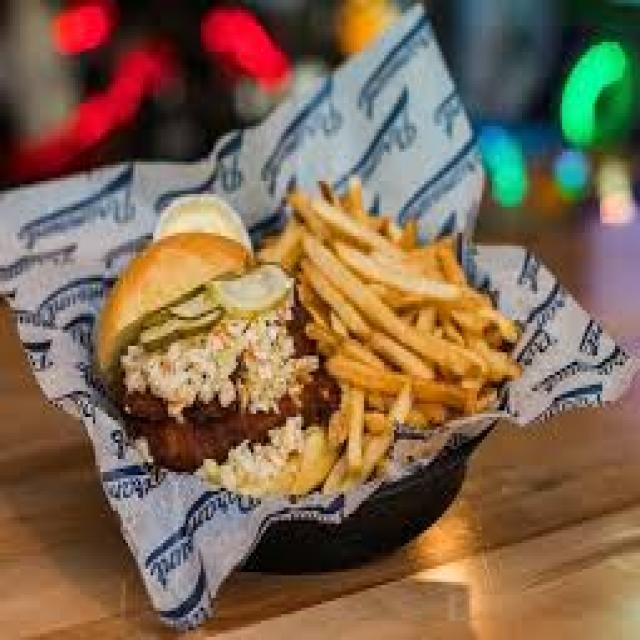Burger: (88, 220, 326, 494)
French Fries: (284, 174, 520, 478)
